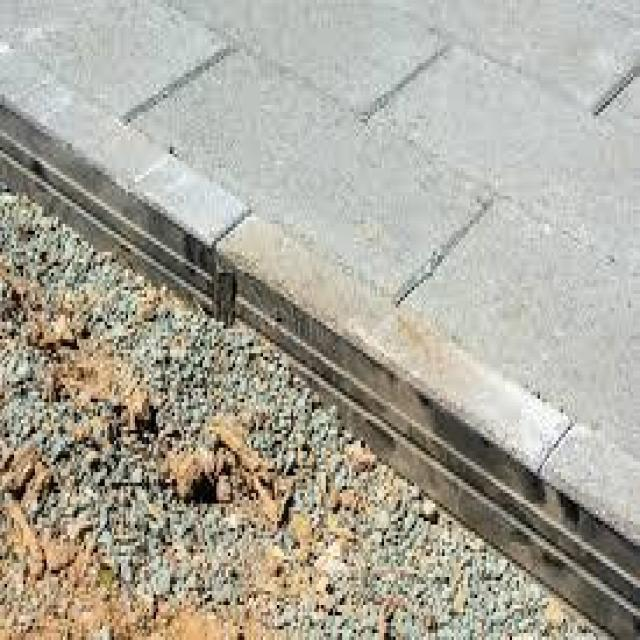curb: (274, 240, 640, 639), (1, 39, 263, 335)
